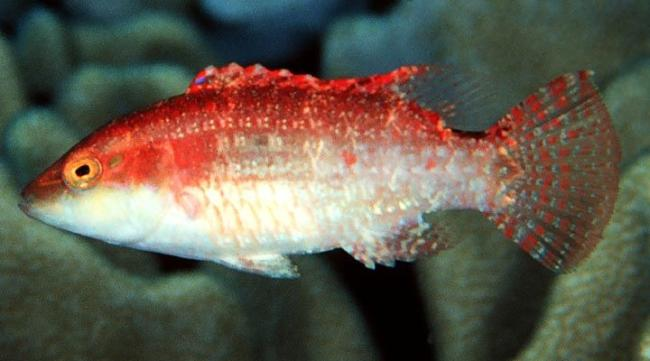fish: (18, 62, 624, 280)
